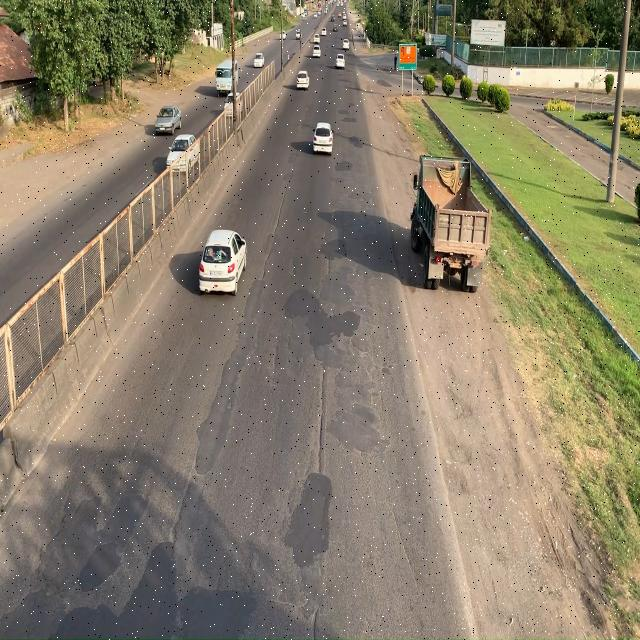Truck: (411, 150, 494, 290)
cars: (200, 232, 246, 290), (154, 102, 183, 138)
